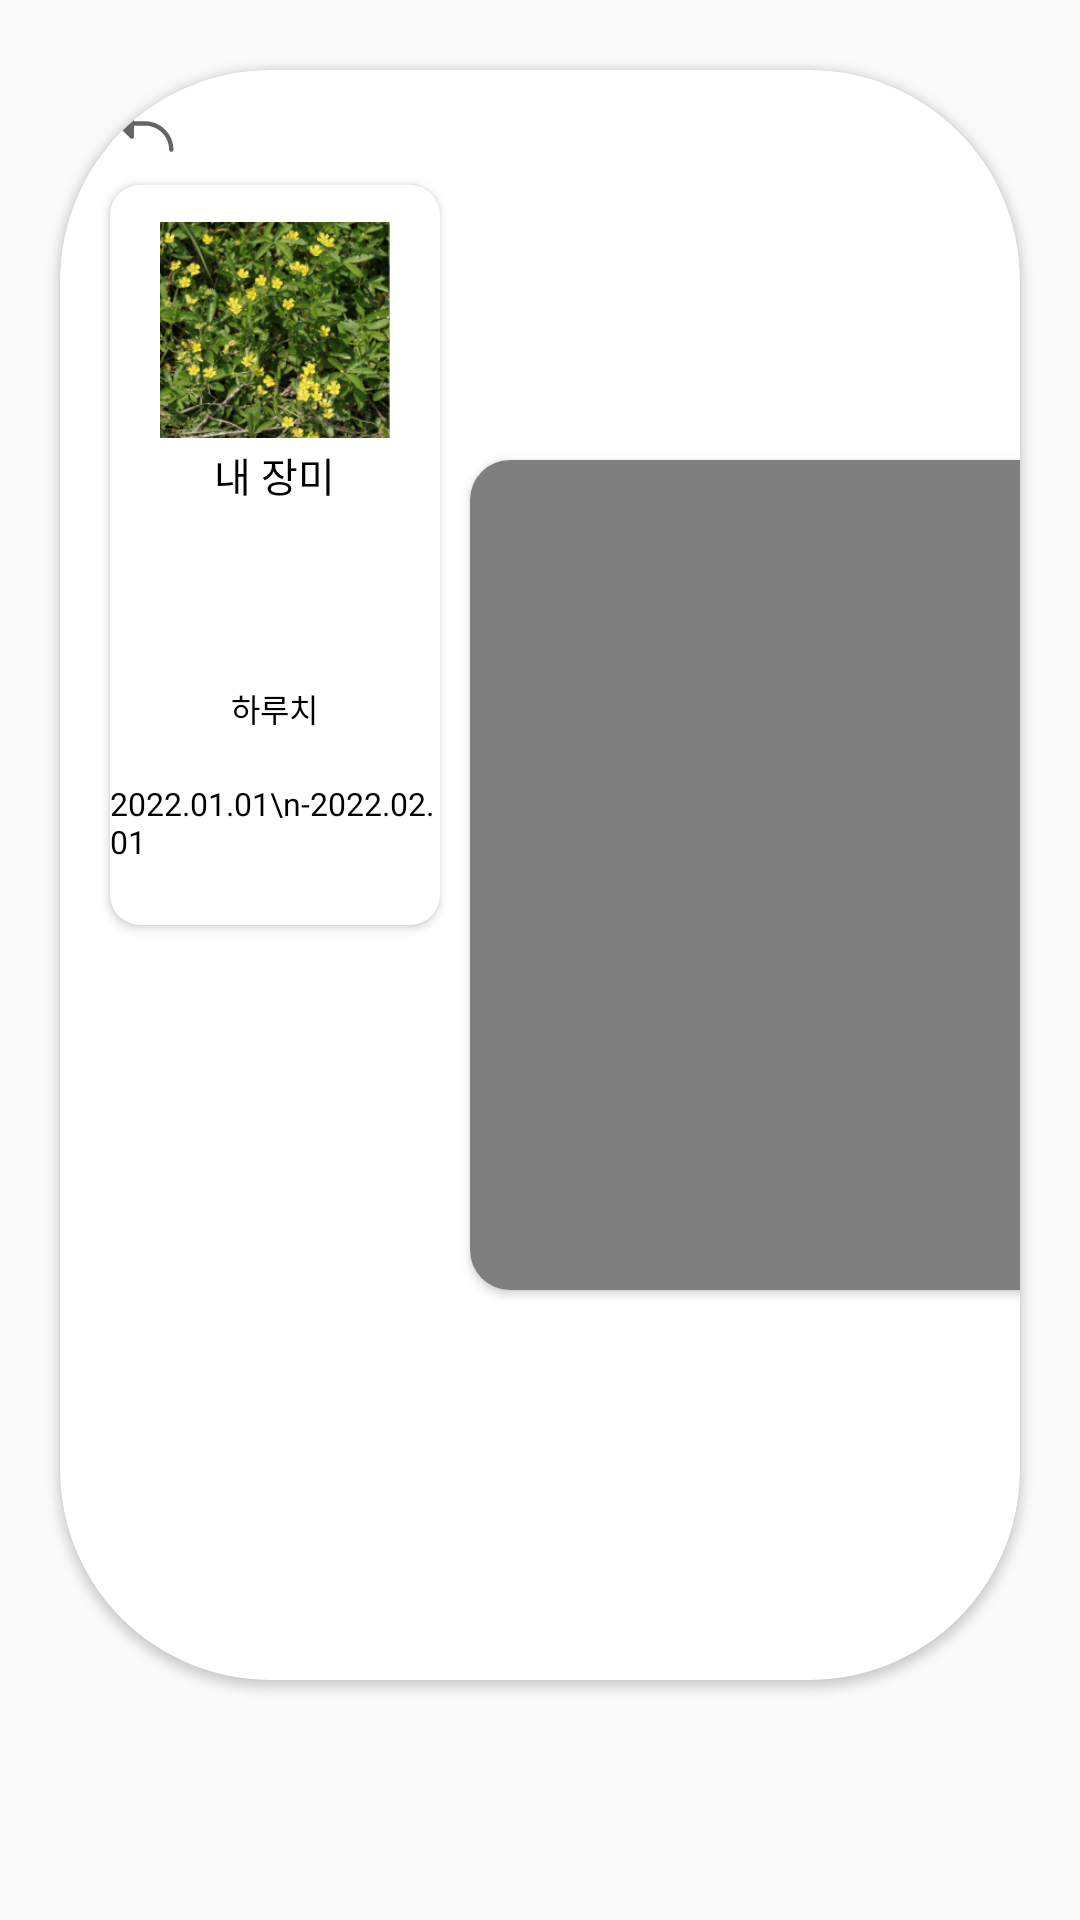

Named icons in this screenshot (1080px x 1920px) and their bounding boxes, (x1, y1, x2, y2):
plant: (160, 222, 390, 438)
